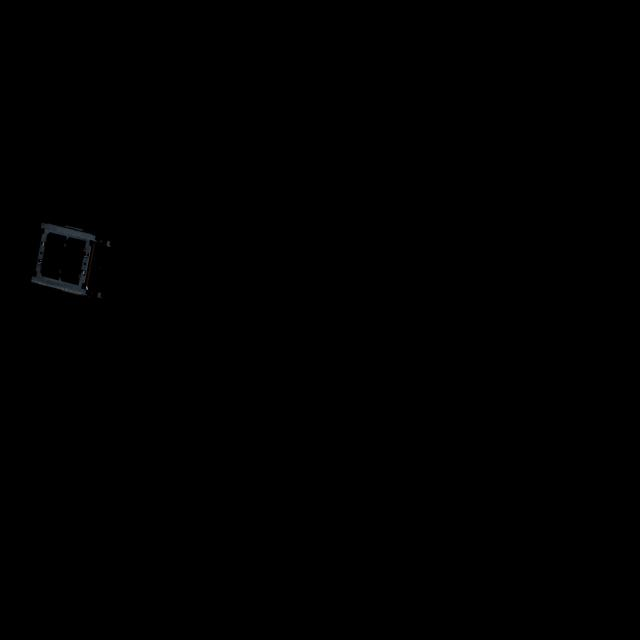medium_debris: (30, 222, 119, 316)
